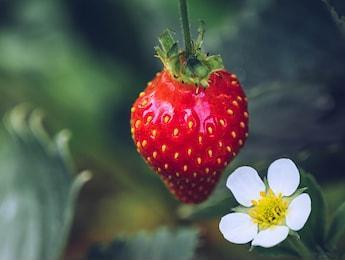Fresa: (122, 41, 253, 213)
